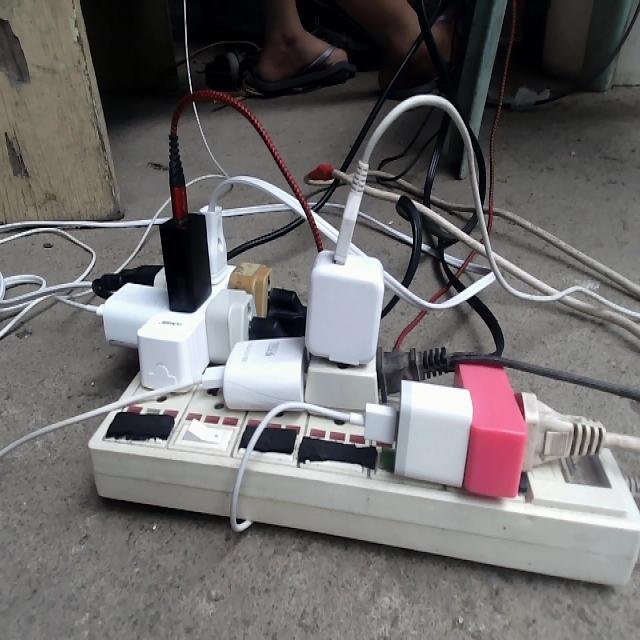-: (89, 142, 639, 582)
